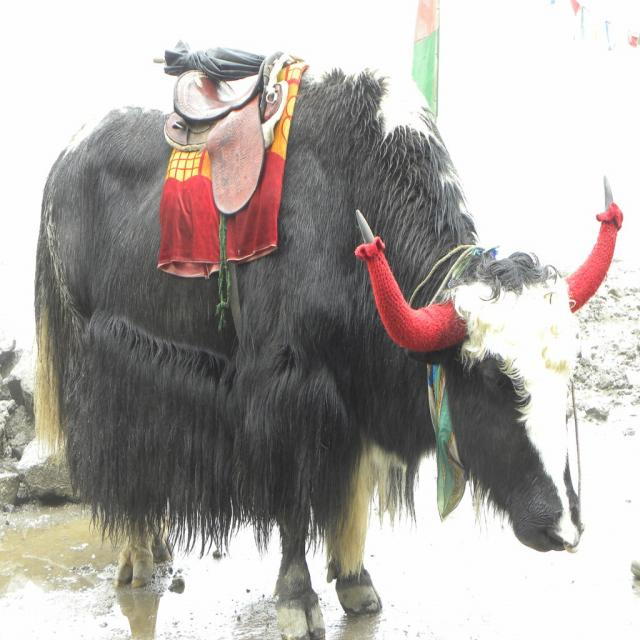Cattle: (30, 66, 624, 640)
